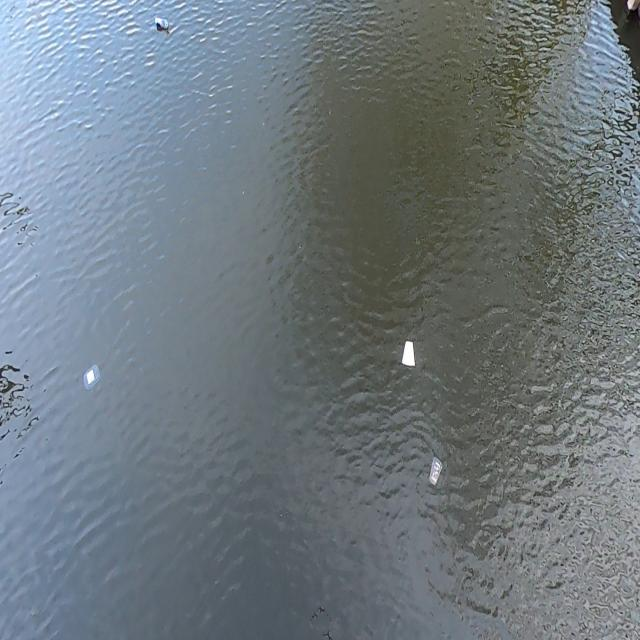Autre plastique: (81, 359, 102, 395)
Non plastique: (400, 336, 417, 371), (153, 10, 169, 35)
